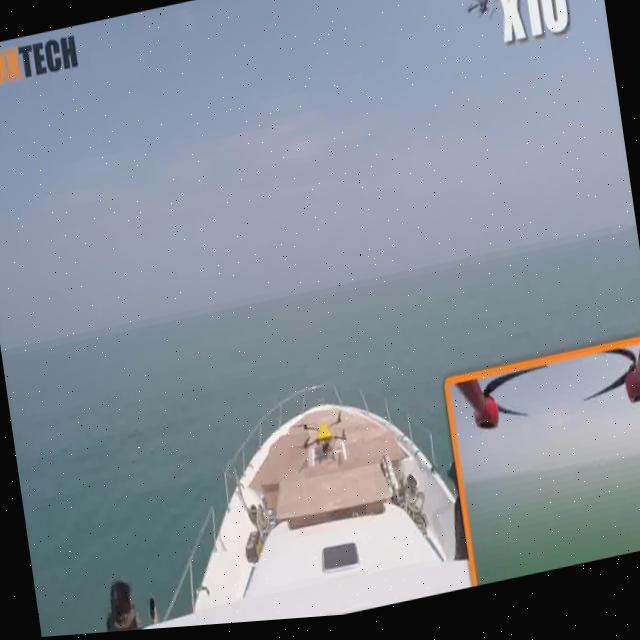drone: (289, 402, 351, 472), (457, 0, 500, 42)
